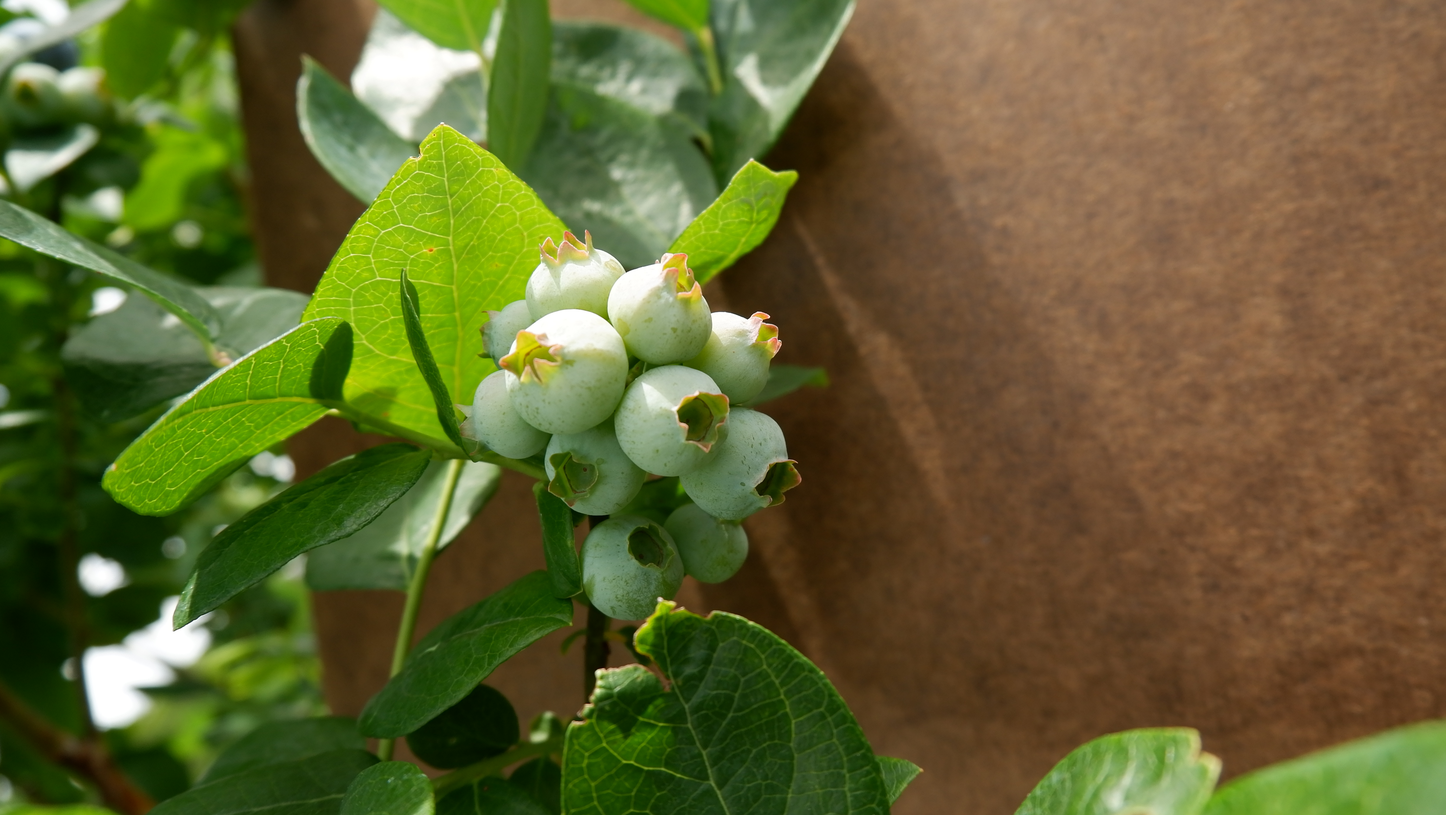Immature: (497, 309, 628, 435), (678, 405, 802, 521), (614, 365, 730, 477), (607, 252, 712, 366), (579, 514, 684, 622), (545, 413, 647, 516), (525, 229, 626, 325), (682, 312, 782, 404), (454, 369, 553, 459), (664, 501, 748, 584), (476, 300, 535, 371)
